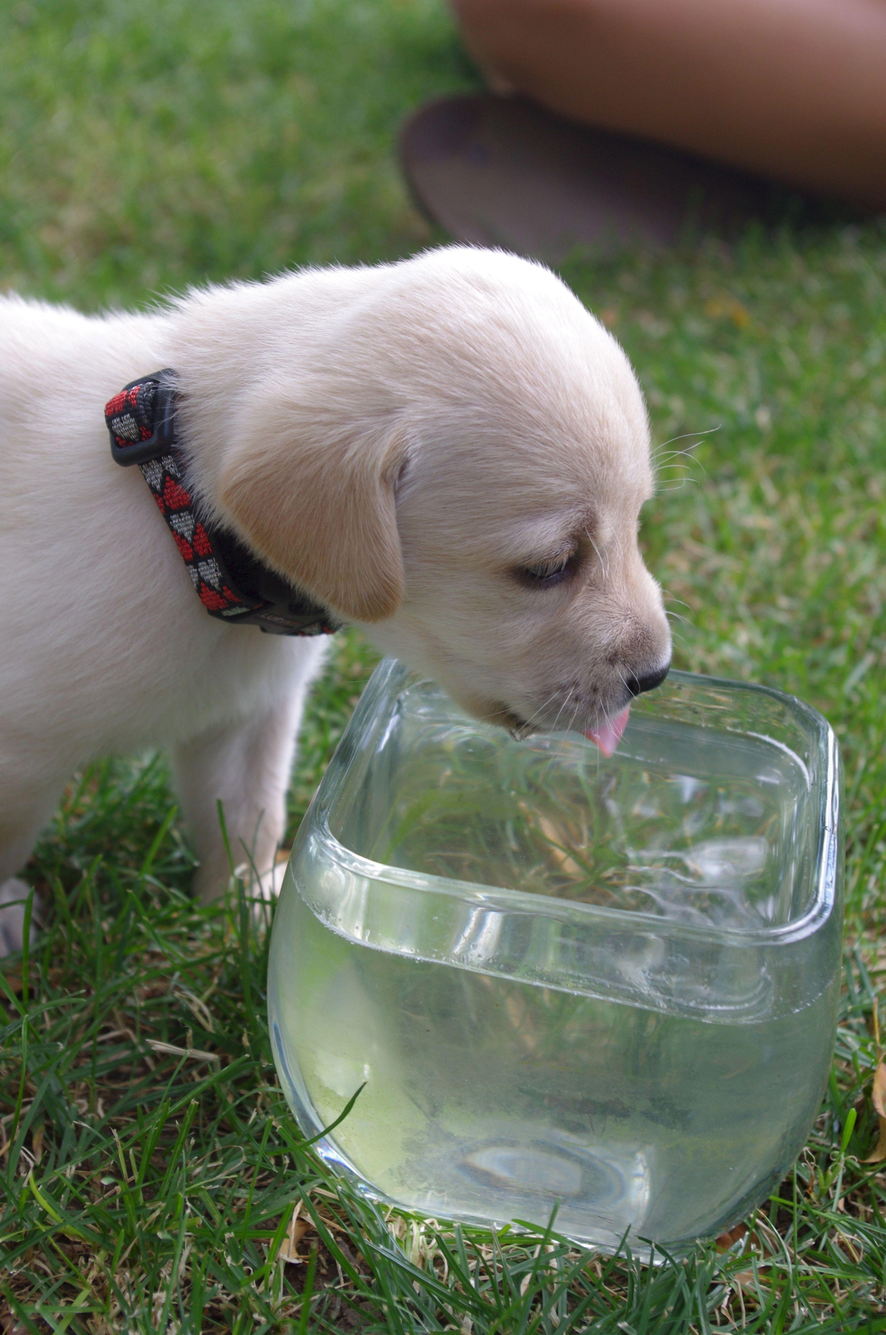puppy-dog: (0, 235, 677, 964)
